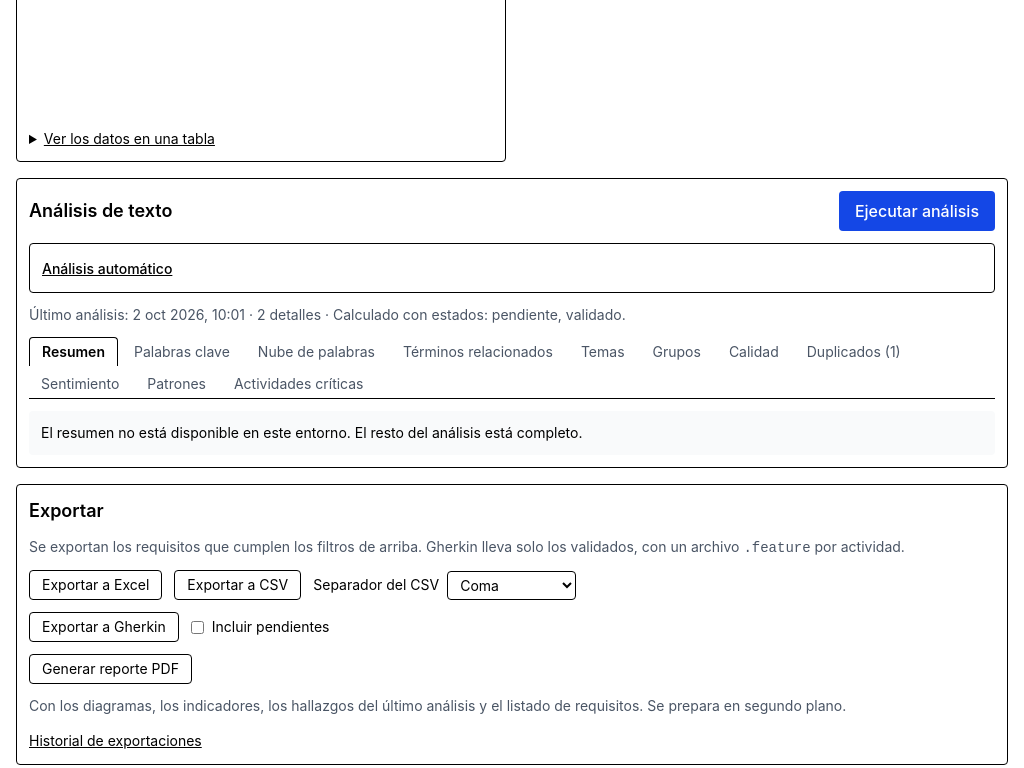
Test: sentimiento › distribución por actividad con su tabla y los detalles más negativos
(page scrolled)
Click the tab "Sentimiento" at (80, 384), box x1=29 y1=370 x2=131 y2=398
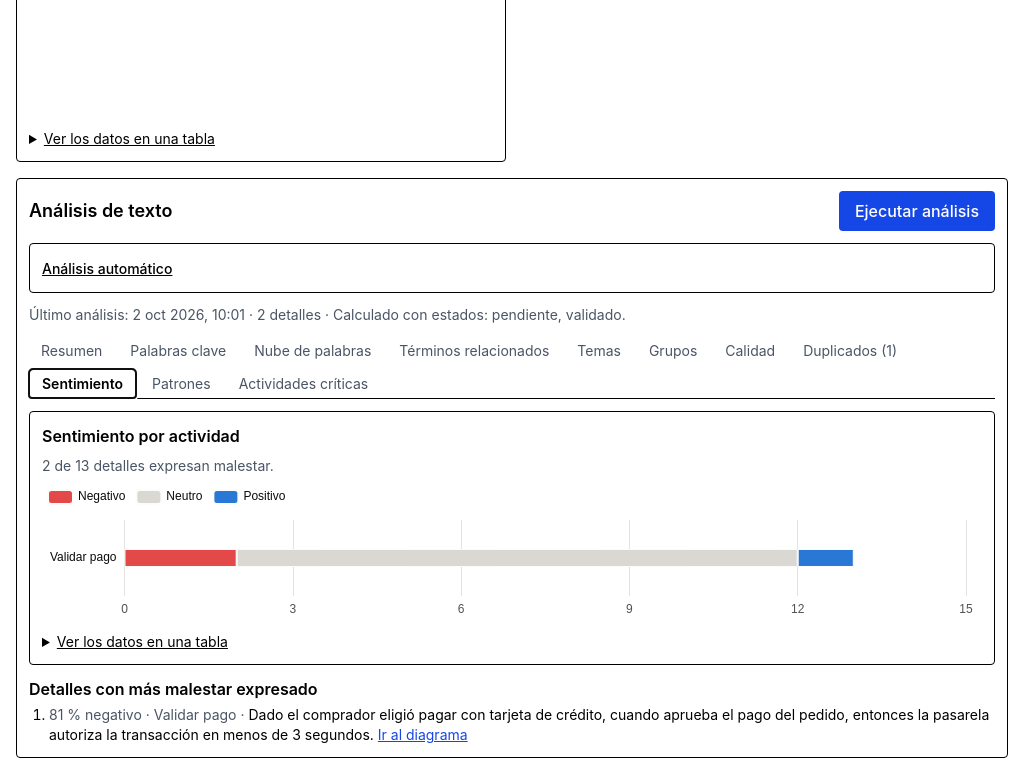
Expected: the text "2 de 13 detalles expresan malestar." is shown, x1=42 y1=457 x2=274 y2=474
Expected: the link "Ir al diagrama" is shown, x1=378 y1=726 x2=468 y2=743
